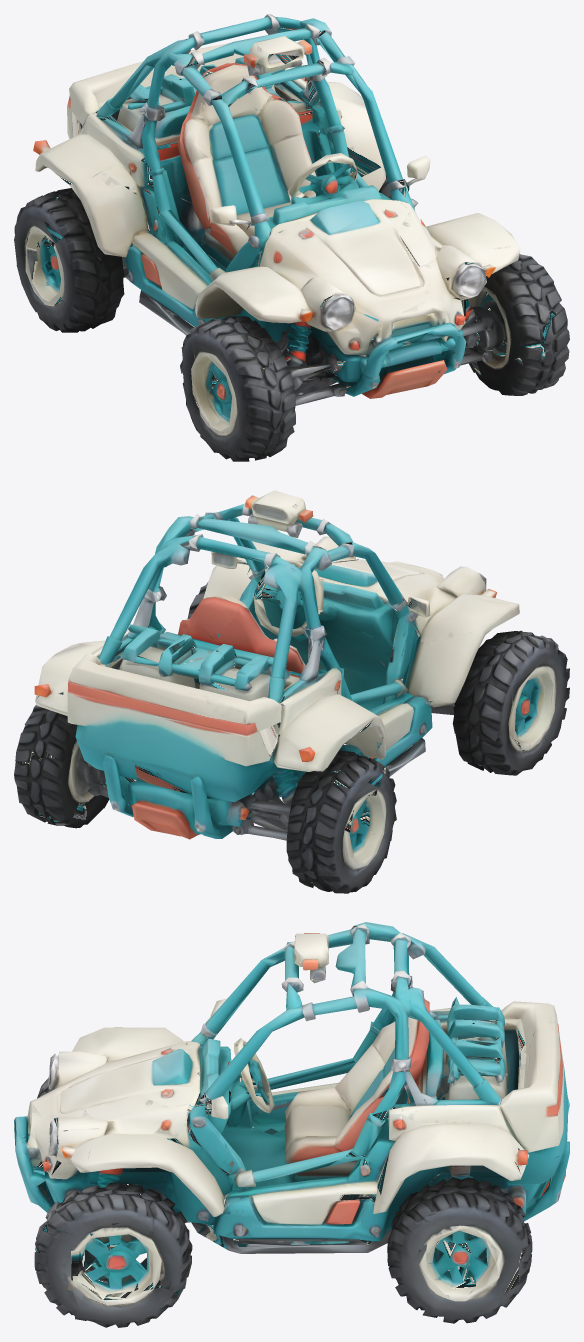
File: reef-mobile.glb
3 views of the same model, one above another, from view 1: azimuth 30°, elevation 25°; view 2: azimuth 150°, elevation 25°; view 3: azimuth 270°, elevation 25° (orthographic). The views are drawn at different scales.
Visible parts, largest first — view 1: model; view 2: model; view 3: model.
Part boxes in pixels (left/top/right/bottom): model: left=14, top=14, right=569, bottom=461; model: left=14, top=490, right=569, bottom=893; model: left=14, top=922, right=569, bottom=1327.
Bounding box in the file's own units: 1.31 × 1.18 × 1.9.
Materials: 1 (1 with a texture image).
